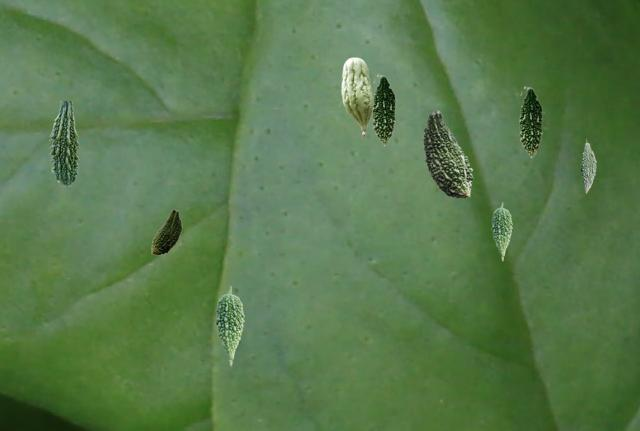ampalaya: (423, 109, 472, 197), (341, 57, 372, 136), (49, 101, 78, 185), (215, 286, 243, 365), (372, 74, 396, 145), (519, 86, 543, 157), (151, 209, 181, 254), (491, 202, 511, 260), (581, 138, 595, 192)
